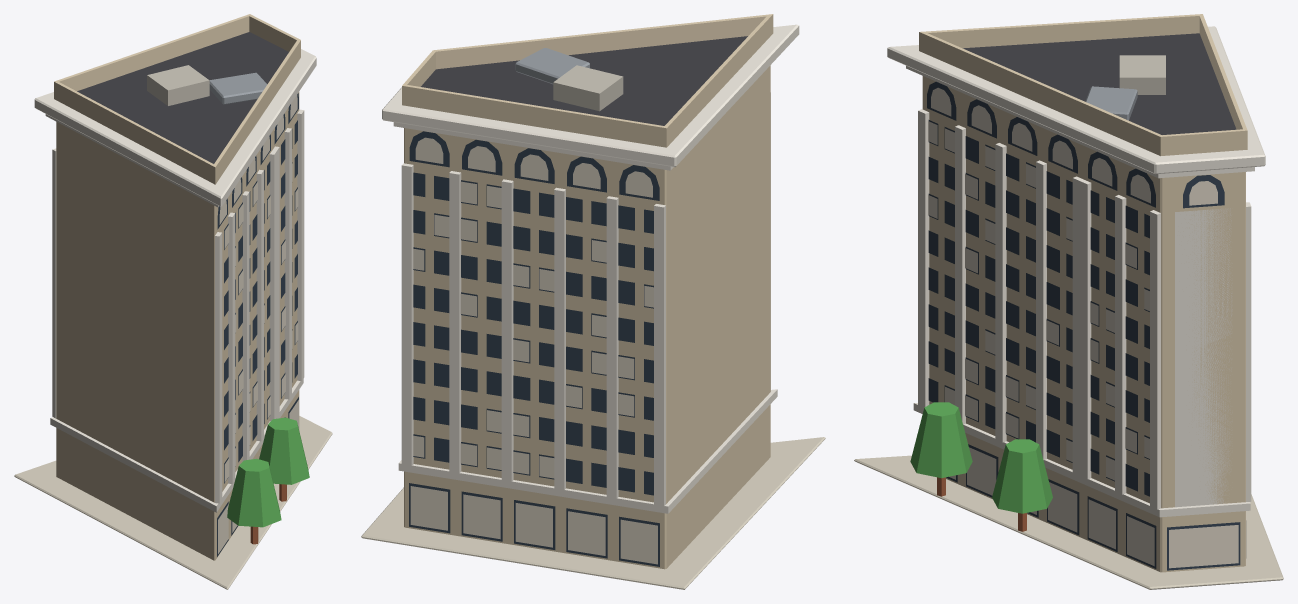
The model's file is 544-market-street.glb.
3 renders of one model, left to right at view 1: azimuth 30°, elevation 25°; view 2: azimuth 150°, elevation 25°; view 3: azimuth 270°, elevation 25°, orthographic. The views are drawn at different scales.
Visible parts, largest first — view 1: 544-market-street_body, 544-market-street_night_glow; view 2: 544-market-street_body, 544-market-street_night_glow; view 3: 544-market-street_body, 544-market-street_night_glow.
Boxes of the visible parts, x1,y1,x2,y2 form: 544-market-street_body: (14, 14, 332, 589); 544-market-street_night_glow: (218, 95, 298, 553); 544-market-street_body: (361, 14, 825, 589); 544-market-street_night_glow: (410, 137, 657, 564); 544-market-street_body: (854, 14, 1283, 589); 544-market-street_night_glow: (928, 87, 1246, 568).
Size of the model in its own units: 27.25 by 36.6 by 32.46.
